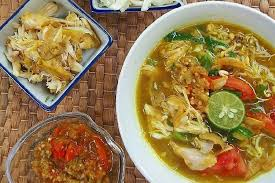soto: (3, 1, 273, 183)
